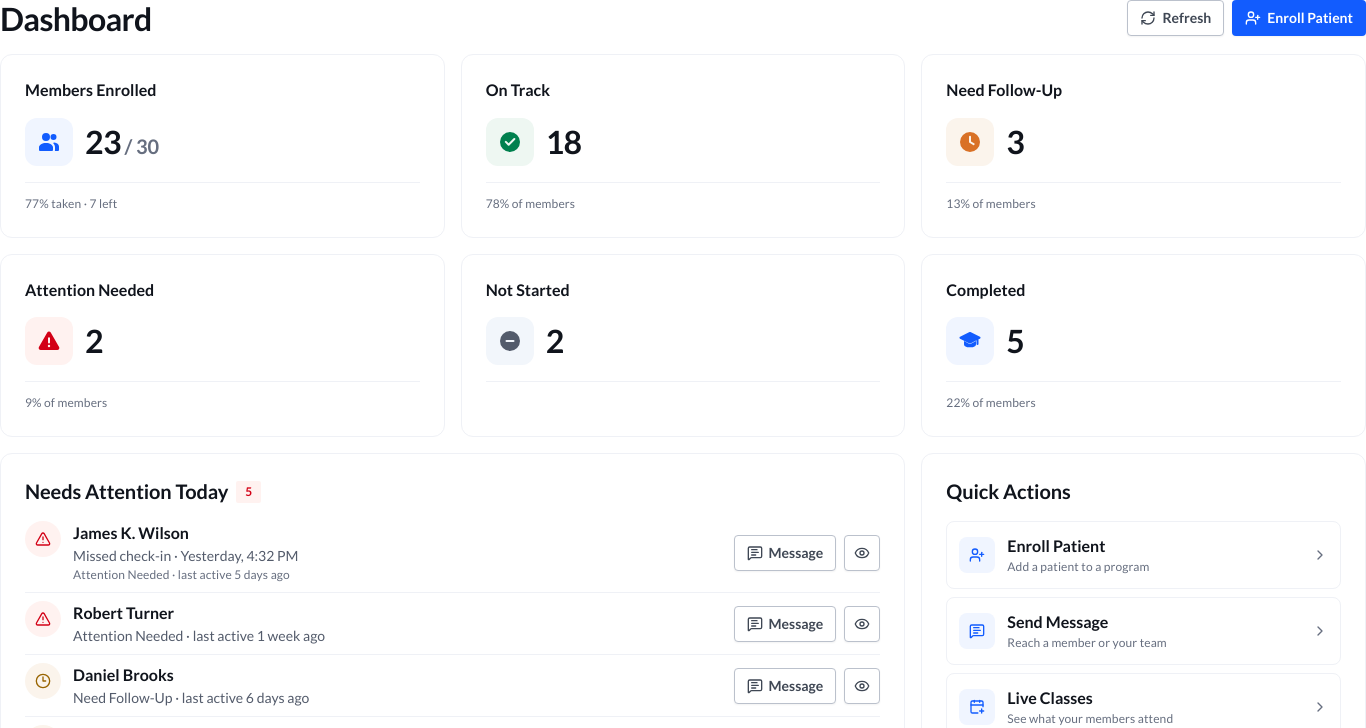
enrolling from the dashboard › opens the enroll form in place from the page's primary action
Click the button "Enroll Patient" at (1299, 18), box x1=1232 y1=0 x2=1365 y2=36
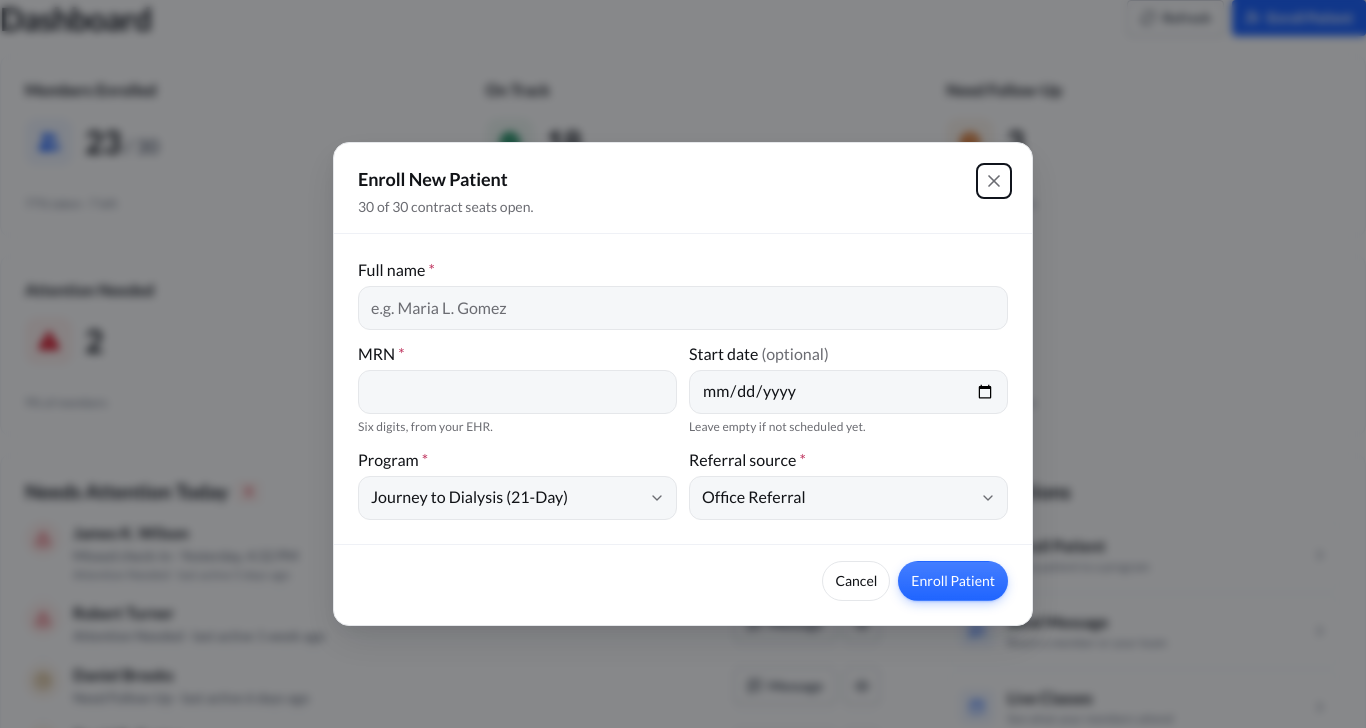
Now the dialog "Enroll New Patient" is shown, box x1=333 y1=142 x2=1033 y2=626
